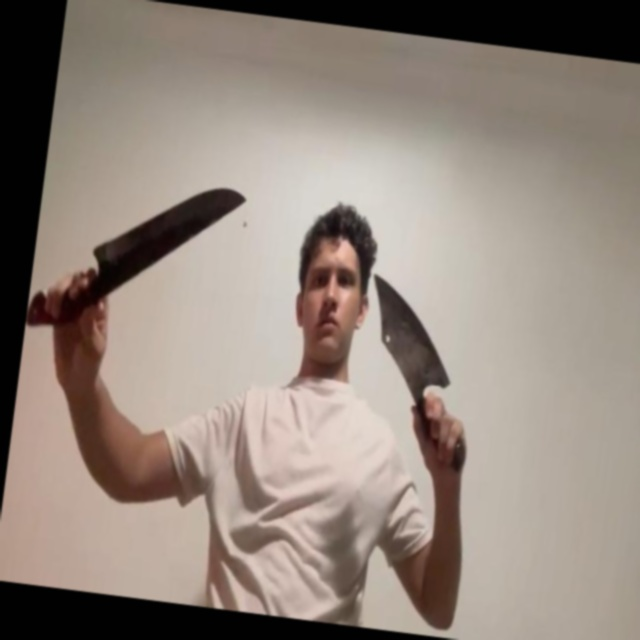Sharp-Object: (91, 172, 248, 282), (361, 275, 460, 392)
